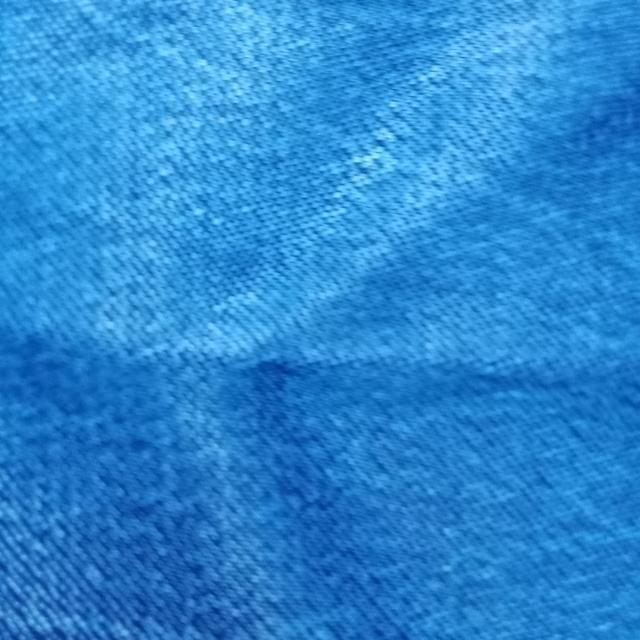broken_yarn: (77, 307, 496, 408)
